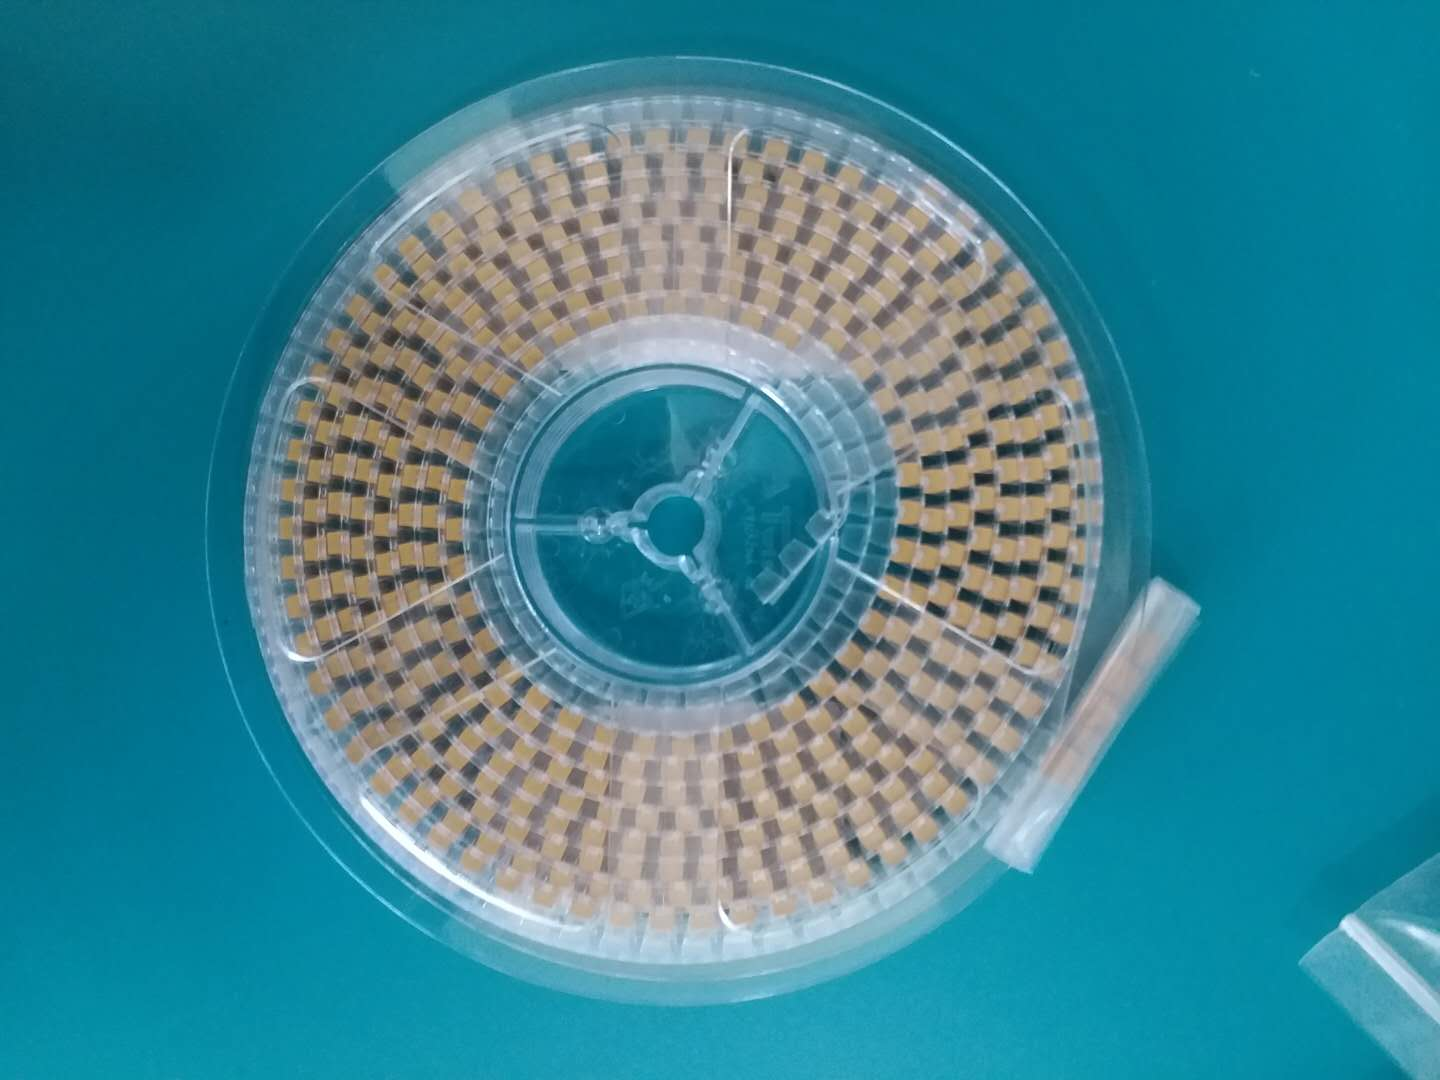G0: (1077, 459, 1104, 487), (660, 833, 686, 858), (974, 484, 998, 512), (658, 857, 681, 884), (752, 871, 774, 898), (972, 448, 996, 472), (702, 782, 727, 804), (952, 604, 975, 627), (621, 757, 644, 781), (718, 800, 735, 832), (703, 833, 726, 857), (779, 813, 804, 835), (787, 862, 812, 884), (598, 800, 618, 826), (764, 136, 787, 159), (739, 850, 757, 878), (591, 874, 609, 902), (844, 862, 867, 884), (710, 884, 731, 908), (650, 908, 671, 931), (974, 530, 999, 550), (779, 836, 804, 857), (742, 822, 762, 847), (924, 471, 946, 493), (1050, 444, 1071, 466), (774, 894, 797, 916), (1024, 539, 1048, 559), (916, 820, 937, 844), (886, 839, 906, 863), (704, 754, 725, 778), (663, 757, 684, 781), (700, 861, 723, 881), (620, 857, 641, 880), (976, 618, 1001, 638), (1078, 501, 1098, 526), (330, 571, 348, 597), (582, 851, 600, 877), (622, 784, 644, 805), (393, 506, 416, 526), (370, 344, 389, 368), (706, 179, 730, 199), (1018, 417, 1037, 441), (672, 736, 696, 756), (692, 910, 715, 929), (903, 462, 921, 487), (386, 434, 403, 461), (1050, 528, 1071, 548), (306, 540, 327, 562), (884, 361, 905, 382), (678, 811, 700, 832), (630, 886, 651, 908), (1002, 617, 1025, 636), (475, 264, 498, 284), (702, 155, 725, 175), (718, 230, 737, 253), (685, 251, 708, 270), (950, 465, 969, 488), (1018, 581, 1037, 604), (852, 803, 874, 822), (612, 910, 632, 933), (516, 851, 535, 874), (430, 828, 452, 847), (443, 292, 467, 310), (393, 312, 417, 330), (1054, 486, 1073, 509), (957, 653, 975, 677), (497, 869, 515, 893), (437, 334, 457, 354), (542, 835, 564, 854), (723, 132, 745, 151), (718, 278, 737, 299), (895, 803, 914, 825), (664, 786, 686, 805), (637, 810, 657, 832), (626, 833, 645, 854), (398, 804, 420, 824), (1025, 459, 1041, 486), (399, 347, 415, 373), (934, 582, 950, 608), (999, 542, 1022, 560), (465, 307, 488, 326), (357, 378, 375, 400), (926, 511, 945, 533), (1027, 497, 1045, 520), (947, 543, 965, 566), (845, 717, 869, 734), (585, 776, 609, 793), (513, 189, 536, 206), (1003, 499, 1020, 523), (988, 577, 1005, 601), (554, 864, 571, 888), (536, 884, 553, 908), (461, 655, 481, 675), (372, 516, 392, 535), (679, 273, 700, 293), (875, 685, 896, 704), (889, 709, 908, 729), (977, 762, 997, 783), (812, 880, 832, 900), (670, 887, 689, 908), (516, 740, 537, 758), (811, 714, 832, 732), (785, 700, 806, 718), (400, 467, 422, 486), (422, 281, 443, 299), (416, 321, 438, 339), (697, 205, 719, 223), (992, 346, 1014, 364), (968, 690, 986, 711), (939, 687, 957, 709), (574, 896, 592, 918), (951, 505, 968, 528), (986, 653, 1003, 676), (710, 732, 732, 749), (912, 351, 927, 374), (938, 643, 954, 667), (1001, 729, 1017, 753), (474, 364, 493, 383), (442, 521, 461, 540), (932, 390, 951, 410), (816, 825, 836, 844), (1003, 462, 1022, 482), (1037, 608, 1056, 628), (897, 543, 917, 562), (818, 795, 836, 816), (523, 349, 543, 368), (381, 594, 399, 615), (363, 315, 383, 334), (316, 424, 337, 442), (307, 500, 325, 521), (569, 143, 590, 161), (646, 129, 667, 147), (966, 412, 986, 430), (957, 746, 975, 767), (863, 829, 881, 850), (759, 796, 777, 817), (732, 906, 753, 925), (534, 312, 559, 327), (624, 179, 649, 194), (1076, 417, 1091, 442), (1079, 545, 1096, 566), (844, 649, 865, 666), (550, 735, 571, 752), (517, 714, 539, 731), (349, 538, 366, 559), (460, 188, 482, 205), (608, 134, 629, 151), (903, 501, 920, 523), (632, 739, 654, 754), (549, 763, 573, 778), (501, 338, 525, 353), (581, 216, 604, 230), (1047, 567, 1065, 587), (1022, 644, 1041, 663), (818, 739, 836, 758), (742, 773, 761, 791), (476, 633, 495, 651), (494, 281, 514, 299), (421, 508, 439, 528), (393, 634, 413, 652), (1044, 657, 1062, 676), (1009, 383, 1030, 400), (859, 739, 880, 756), (783, 756, 801, 776), (587, 825, 604, 845), (601, 235, 621, 252), (485, 718, 506, 735), (454, 396, 471, 416), (459, 596, 476, 616), (534, 157, 554, 174), (551, 177, 571, 194), (678, 226, 698, 243), (913, 722, 930, 742), (560, 714, 582, 729), (554, 327, 576, 343), (461, 732, 483, 748), (401, 545, 417, 566), (477, 209, 499, 225), (943, 724, 959, 745), (586, 752, 609, 767), (568, 295, 591, 310), (854, 358, 869, 381), (403, 584, 421, 602), (375, 652, 393, 670), (689, 129, 708, 147), (793, 309, 811, 327), (917, 756, 937, 773), (993, 297, 1013, 314), (465, 857, 484, 874), (530, 691, 549, 708), (338, 611, 355, 631), (424, 545, 441, 564), (742, 164, 761, 182), (658, 204, 677, 221), (727, 258, 744, 277), (878, 393, 897, 410), (356, 457, 369, 483), (749, 723, 770, 739), (561, 798, 585, 811), (505, 304, 525, 320), (475, 328, 495, 344), (308, 462, 324, 482), (454, 444, 474, 459), (378, 555, 393, 575), (664, 298, 685, 314), (920, 549, 935, 569), (946, 282, 967, 297), (803, 151, 824, 166), (586, 166, 608, 180), (620, 206, 642, 221), (930, 777, 947, 795), (739, 206, 757, 223), (524, 781, 547, 794), (492, 759, 515, 773), (327, 387, 344, 405), (448, 559, 465, 577), (435, 658, 454, 675), (417, 623, 435, 640), (517, 214, 534, 233), (708, 304, 726, 321), (827, 851, 849, 864), (900, 652, 916, 672), (884, 751, 904, 767), (831, 763, 850, 779), (537, 285, 557, 301), (478, 777, 498, 793), (448, 751, 467, 767), (398, 239, 417, 255), (392, 284, 408, 303), (413, 670, 432, 686), (889, 326, 908, 341), (1024, 698, 1040, 717), (488, 690, 508, 704), (413, 752, 433, 767), (308, 580, 323, 600), (329, 496, 344, 516), (554, 201, 575, 216), (382, 383, 395, 407), (587, 189, 611, 202), (571, 269, 593, 282), (332, 454, 346, 475), (869, 616, 886, 633), (835, 309, 852, 326), (547, 226, 564, 243), (344, 351, 361, 368), (299, 404, 316, 421), (973, 311, 991, 327), (946, 431, 964, 447), (816, 680, 835, 695), (366, 729, 384, 745), (316, 621, 332, 639), (643, 278, 661, 294), (954, 374, 969, 393), (1043, 406, 1059, 424), (916, 678, 932, 697), (430, 393, 444, 412), (484, 236, 503, 251), (513, 801, 533, 815), (448, 357, 461, 378), (609, 258, 629, 271), (664, 157, 685, 170), (668, 179, 688, 193), (982, 714, 996, 734), (443, 623, 460, 639), (350, 652, 367, 668), (934, 341, 950, 358), (508, 827, 530, 839), (357, 577, 370, 599), (418, 364, 431, 386), (416, 259, 438, 271), (986, 386, 1001, 404), (442, 781, 460, 795), (429, 469, 443, 487), (390, 761, 408, 776), (329, 659, 344, 677), (415, 428, 429, 447), (891, 429, 910, 442), (495, 171, 518, 183), (354, 498, 366, 518), (400, 398, 410, 423), (849, 259, 865, 275), (1051, 346, 1066, 363), (1058, 623, 1073, 640), (925, 434, 940, 452), (912, 587, 926, 604), (889, 784, 906, 799), (910, 212, 927, 227), (841, 691, 858, 706), (801, 287, 818, 302), (289, 442, 304, 459), (327, 535, 341, 552), (647, 253, 664, 268), (1003, 681, 1018, 698), (968, 572, 982, 590), (795, 781, 808, 799), (779, 736, 797, 750), (564, 244, 582, 258), (530, 263, 548, 277), (454, 258, 472, 271), (350, 301, 364, 319), (417, 791, 435, 804), (434, 587, 448, 605), (588, 314, 610, 326), (624, 159, 645, 170), (481, 839, 500, 852), (639, 229, 659, 242), (829, 276, 849, 287), (812, 239, 832, 251), (449, 818, 466, 832), (397, 687, 410, 704), (361, 616, 378, 630), (344, 415, 354, 438), (380, 474, 391, 495), (629, 302, 646, 315), (998, 422, 1009, 442), (969, 349, 982, 368), (550, 819, 568, 832), (909, 396, 924, 411), (923, 286, 937, 302), (861, 336, 876, 349), (423, 725, 439, 739), (346, 697, 359, 712), (283, 483, 297, 499), (946, 317, 959, 332), (1018, 331, 1031, 348), (858, 208, 875, 220), (795, 258, 812, 270), (331, 334, 344, 351), (282, 521, 295, 538), (369, 420, 378, 442), (1010, 277, 1024, 292), (892, 625, 907, 639), (312, 676, 325, 691), (922, 254, 938, 267), (891, 227, 907, 239), (888, 579, 904, 591), (891, 259, 907, 271), (881, 285, 897, 297), (477, 805, 493, 818), (369, 687, 381, 703), (289, 599, 302, 615), (283, 560, 296, 576), (785, 202, 804, 212), (785, 176, 802, 187), (760, 244, 777, 255), (742, 756, 759, 767), (857, 778, 871, 792), (827, 216, 840, 229), (765, 272, 783, 282), (511, 247, 530, 258), (388, 722, 401, 735), (1032, 312, 1047, 324), (1066, 383, 1078, 398), (942, 241, 957, 253), (829, 335, 844, 347), (749, 184, 764, 196), (598, 731, 612, 743), (329, 712, 341, 727), (822, 188, 838, 200), (857, 236, 874, 246), (985, 247, 1002, 258), (1034, 370, 1047, 383), (873, 663, 887, 675), (433, 213, 447, 226), (448, 233, 463, 244), (864, 301, 880, 311), (780, 332, 796, 343), (605, 285, 621, 295), (951, 796, 965, 808), (909, 307, 921, 321), (779, 223, 796, 233), (457, 691, 469, 702), (378, 270, 391, 280), (376, 781, 390, 791), (300, 638, 311, 651), (1071, 585, 1081, 600), (929, 623, 938, 638), (350, 748, 361, 760), (501, 666, 511, 677), (968, 267, 981, 276), (845, 174, 858, 182), (764, 296, 778, 304), (746, 317, 759, 324), (464, 701, 477, 708), (884, 193, 893, 202), (434, 703, 444, 711), (316, 368, 327, 376)
